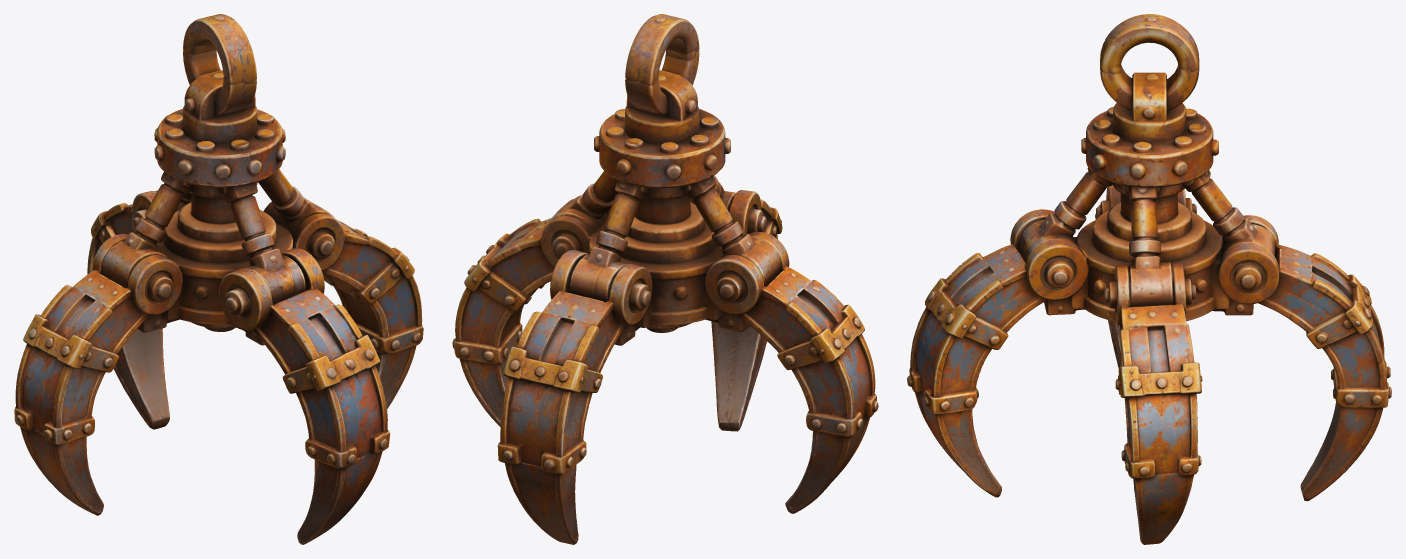
Rendered from Starwish_Junkyard_LM03_C_Grab.glb.
3 renders of one model, left to right at view 1: azimuth 30°, elevation 25°; view 2: azimuth 150°, elevation 25°; view 3: azimuth 270°, elevation 25°, orthographic.
Visible parts, largest first — view 1: tripo_node_99b80537-e77a-433d-aab2-5f12855bf9c4; view 2: tripo_node_99b80537-e77a-433d-aab2-5f12855bf9c4; view 3: tripo_node_99b80537-e77a-433d-aab2-5f12855bf9c4.
Boxes of the visible parts, x1,y1,x2,y2 form: tripo_node_99b80537-e77a-433d-aab2-5f12855bf9c4: [14, 14, 423, 544]; tripo_node_99b80537-e77a-433d-aab2-5f12855bf9c4: [452, 14, 878, 544]; tripo_node_99b80537-e77a-433d-aab2-5f12855bf9c4: [907, 14, 1391, 544].
Size of the model in its own units: 0.8667 by 0.98 by 0.9131.
Materials: 1 (1 with a texture image).
